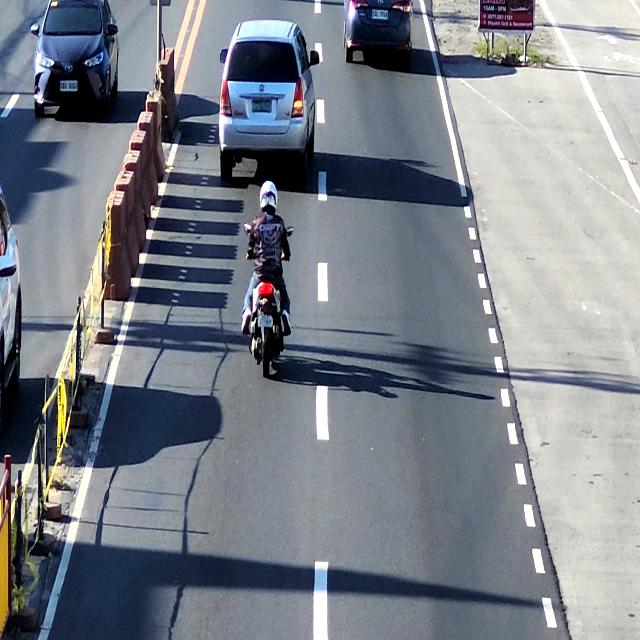Car: (215, 17, 316, 182), (340, 0, 418, 71)
License-Plate: (254, 309, 276, 332), (248, 95, 274, 114), (368, 7, 389, 23)
Motorcycle: (241, 180, 295, 384)
